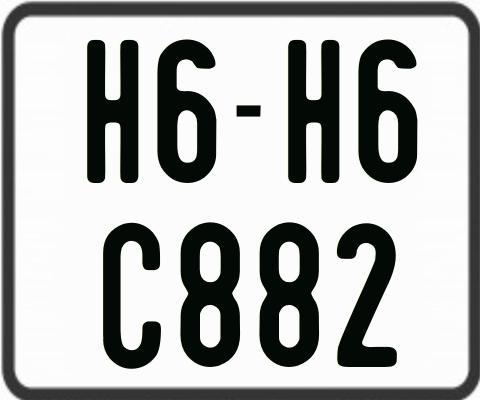2: (334, 221, 398, 366)
6: (358, 39, 421, 186), (157, 40, 218, 183)
8: (177, 222, 243, 368), (258, 220, 322, 368)
C: (102, 223, 165, 375)
H: (85, 38, 142, 187), (286, 38, 342, 186)
